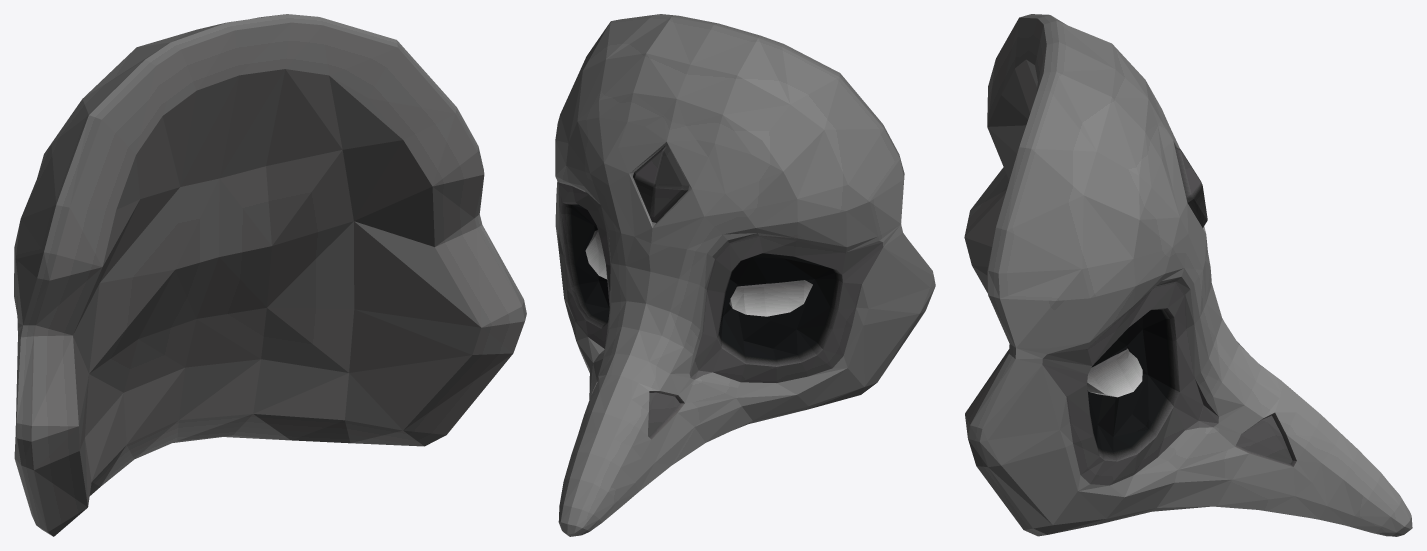
File: CharSkyKid_Mask_MischiefBeak.glb
3 views of the same model, side by side, from view 1: azimuth 30°, elevation 25°; view 2: azimuth 150°, elevation 25°; view 3: azimuth 270°, elevation 25° (orthographic). The views are drawn at different scales.
Visible parts, largest first — view 1: CharSkyKid_Mask_MischiefBeak; view 2: CharSkyKid_Mask_MischiefBeak; view 3: CharSkyKid_Mask_MischiefBeak.
Part boxes in pixels (box(x1,y1,x2,y2)): CharSkyKid_Mask_MischiefBeak: box(14, 14, 526, 536); CharSkyKid_Mask_MischiefBeak: box(555, 14, 935, 536); CharSkyKid_Mask_MischiefBeak: box(964, 14, 1412, 536).
Bounding box in the file's own units: 2.41 × 2.47 × 2.04.
1 material, 1 textured.
